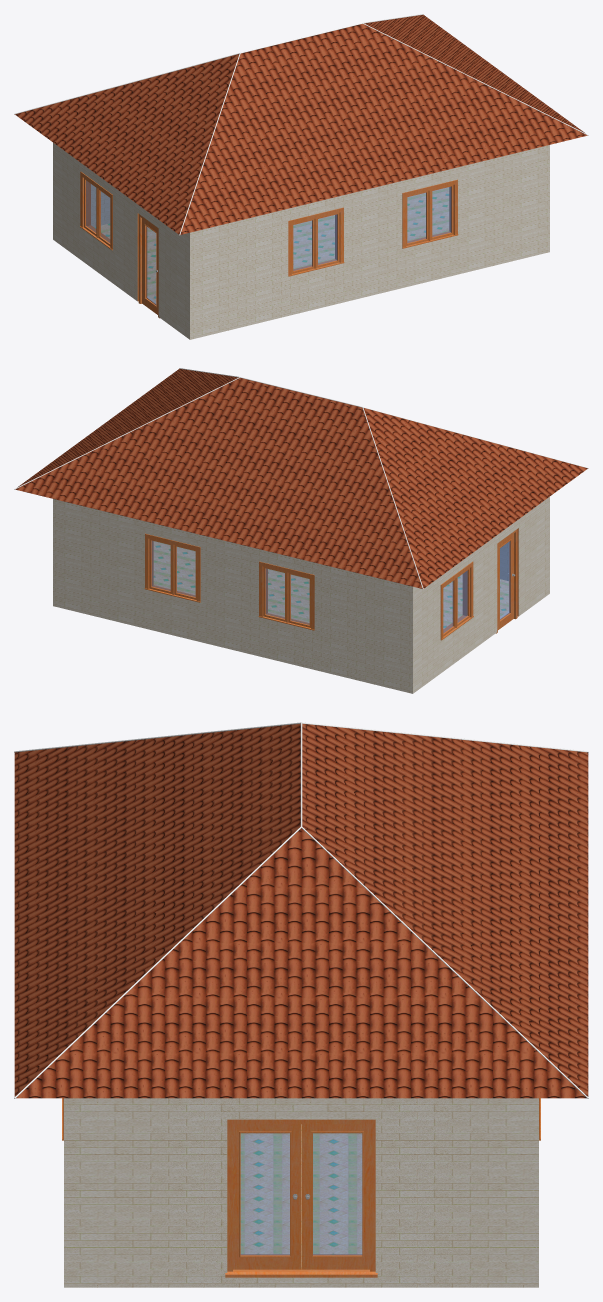
Rendered from telhado33N.glb.
The picture shows the model from 3 angles, top to bottom: view 1: azimuth 30°, elevation 25°; view 2: azimuth 150°, elevation 25°; view 3: azimuth 270°, elevation 25°; orthographic projection. The views are drawn at different scales.
Visible parts, largest first — view 1: object 2, object 15, object 14, object 16, root; view 2: object 2, object 15, object 14, object 16, root; view 3: object 2, object 15, root, object 16, object 14, Pipe (×2).
Boxes of the visible parts, x1,y1,x2,y2 form: object 2: [15, 14, 587, 234]; object 15: [53, 142, 549, 339]; object 14: [80, 171, 458, 318]; object 16: [86, 180, 451, 304]; root: [94, 187, 449, 303]; object 2: [15, 368, 587, 588]; object 15: [53, 496, 549, 693]; object 14: [144, 528, 518, 640]; object 16: [151, 540, 510, 633]; root: [153, 541, 515, 628]; object 2: [14, 723, 588, 1098]; object 15: [64, 1098, 538, 1287]; root: [240, 1124, 362, 1267]; object 16: [240, 1133, 362, 1255]; object 14: [62, 1098, 540, 1277]; Pipe (×2): [14, 826, 588, 1098].
Size of the model in its own units: 10.02 by 4.9 by 7.02.
10 materials, 5 textured.
